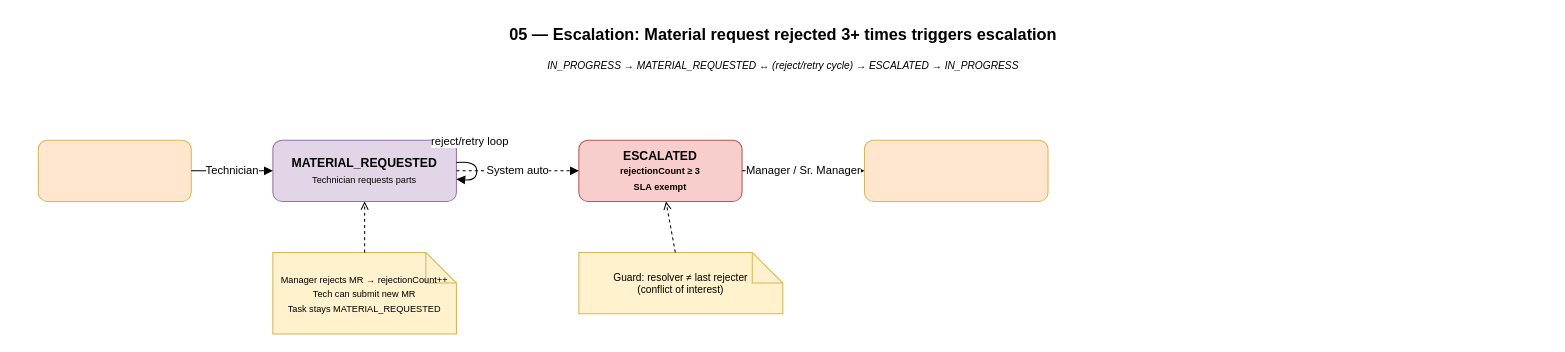
Some shapes in this 1565 by 352 pixel diagram are drawn without their labels. The centre of each missing label's shape, as x and y in pixels:
IN_PROGRESS: the point at 114,170
IN_PROGRESS Resolved by different manager: the point at 955,170
